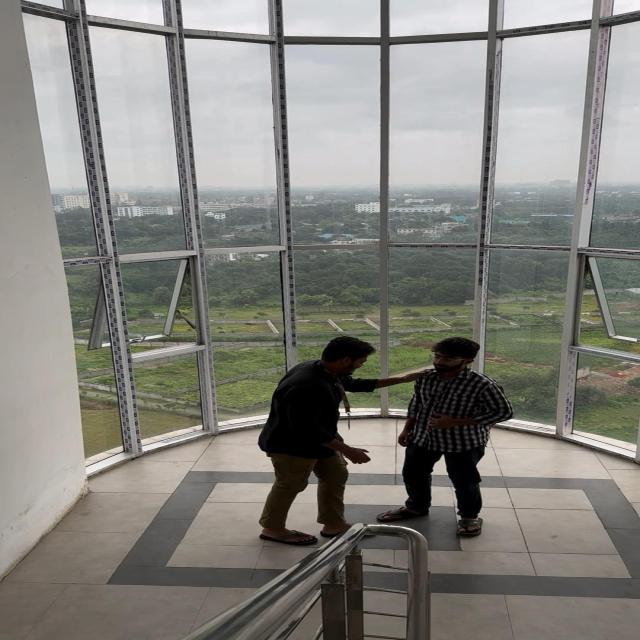fight: (223, 321, 538, 562)
